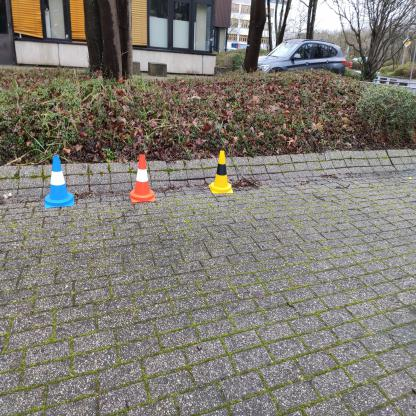Cones_small_blue: (39, 152, 78, 209)
Cones_small_orange: (128, 150, 158, 204)
Cones_small_yellow: (208, 149, 236, 198)
